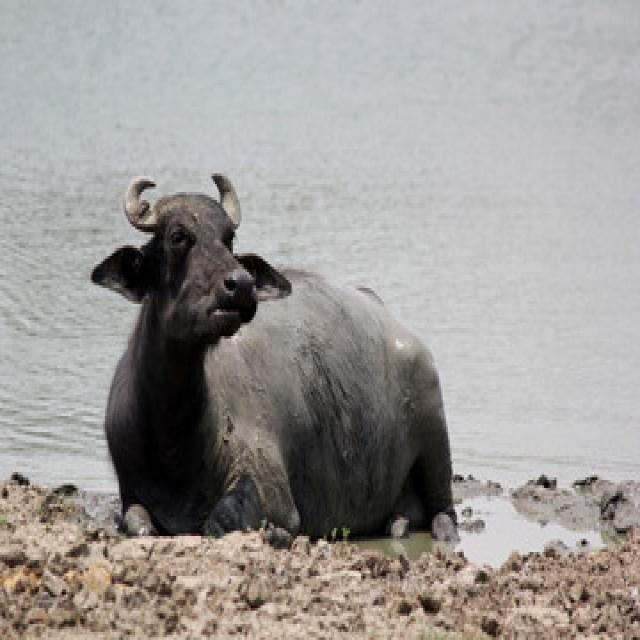Buffalo: (87, 165, 462, 547)
